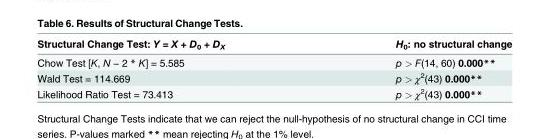table: (36, 36, 511, 99)
table column: (36, 36, 309, 99), (309, 36, 511, 99)
table column header: (36, 36, 511, 53)
table row: (36, 36, 511, 53), (36, 53, 511, 69), (36, 69, 511, 85), (36, 85, 511, 99)
